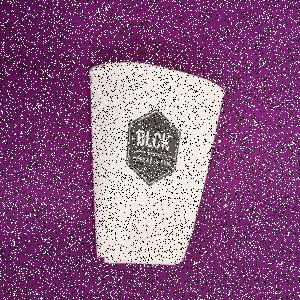Cup: (89, 62, 227, 268)
